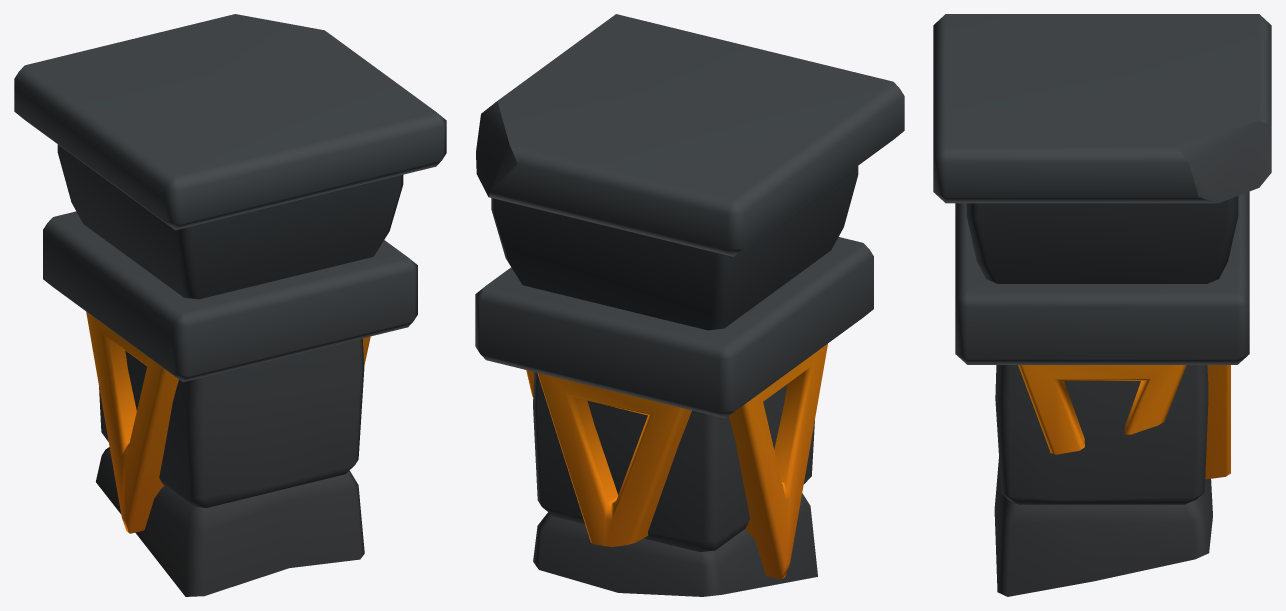
The model's file is inferno-column-big-broken-002.glb.
3 views of the same model, side by side, from view 1: azimuth 30°, elevation 25°; view 2: azimuth 150°, elevation 25°; view 3: azimuth 270°, elevation 25° (orthographic). The views are drawn at different scales.
Visible parts, largest first — view 1: ColumnBigBroken_002; view 2: ColumnBigBroken_002; view 3: ColumnBigBroken_002.
Boxes of the visible parts, bbox=[...] form: ColumnBigBroken_002: bbox=[14, 14, 446, 596]; ColumnBigBroken_002: bbox=[475, 14, 904, 596]; ColumnBigBroken_002: bbox=[933, 14, 1271, 596].
Bounding box in the file's own units: 2.4 × 3.69 × 2.4.
2 materials, 2 textured.
